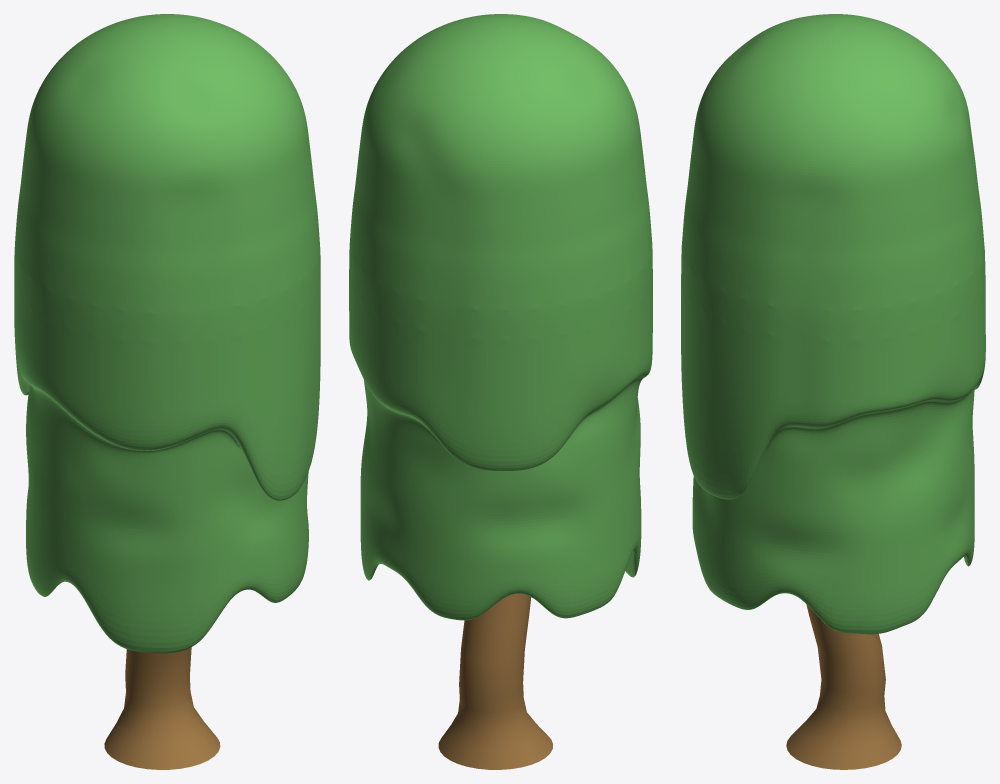
Rendered from tree6.fbx.
3 renders of one model, left to right at view 1: azimuth 30°, elevation 25°; view 2: azimuth 150°, elevation 25°; view 3: azimuth 270°, elevation 25°, orthographic.
Parts seen in each view (by area): view 1: tree.002, less curvy.002; view 2: tree.002, less curvy.002; view 3: tree.002, less curvy.002.
Boxes of the visible parts, <box> form: tree.002: <box>14,14,320,653</box>; less curvy.002: <box>104,647,220,769</box>; tree.002: <box>349,14,652,620</box>; less curvy.002: <box>438,593,552,769</box>; tree.002: <box>681,14,985,634</box>; less curvy.002: <box>786,604,901,769</box>.
Size of the model in its own units: 133 by 345 by 133.
